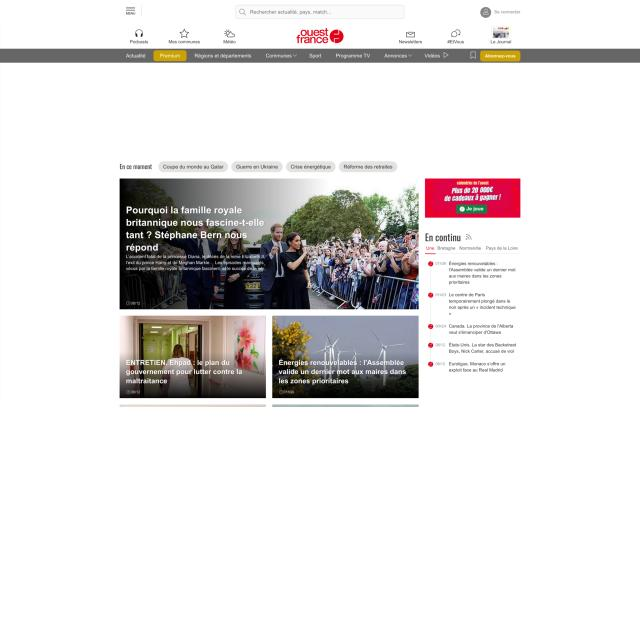input: (234, 4, 407, 20)
logo: (294, 26, 344, 44)
navigation: (122, 50, 450, 61), (396, 28, 516, 46), (128, 28, 241, 45), (124, 3, 138, 18)
